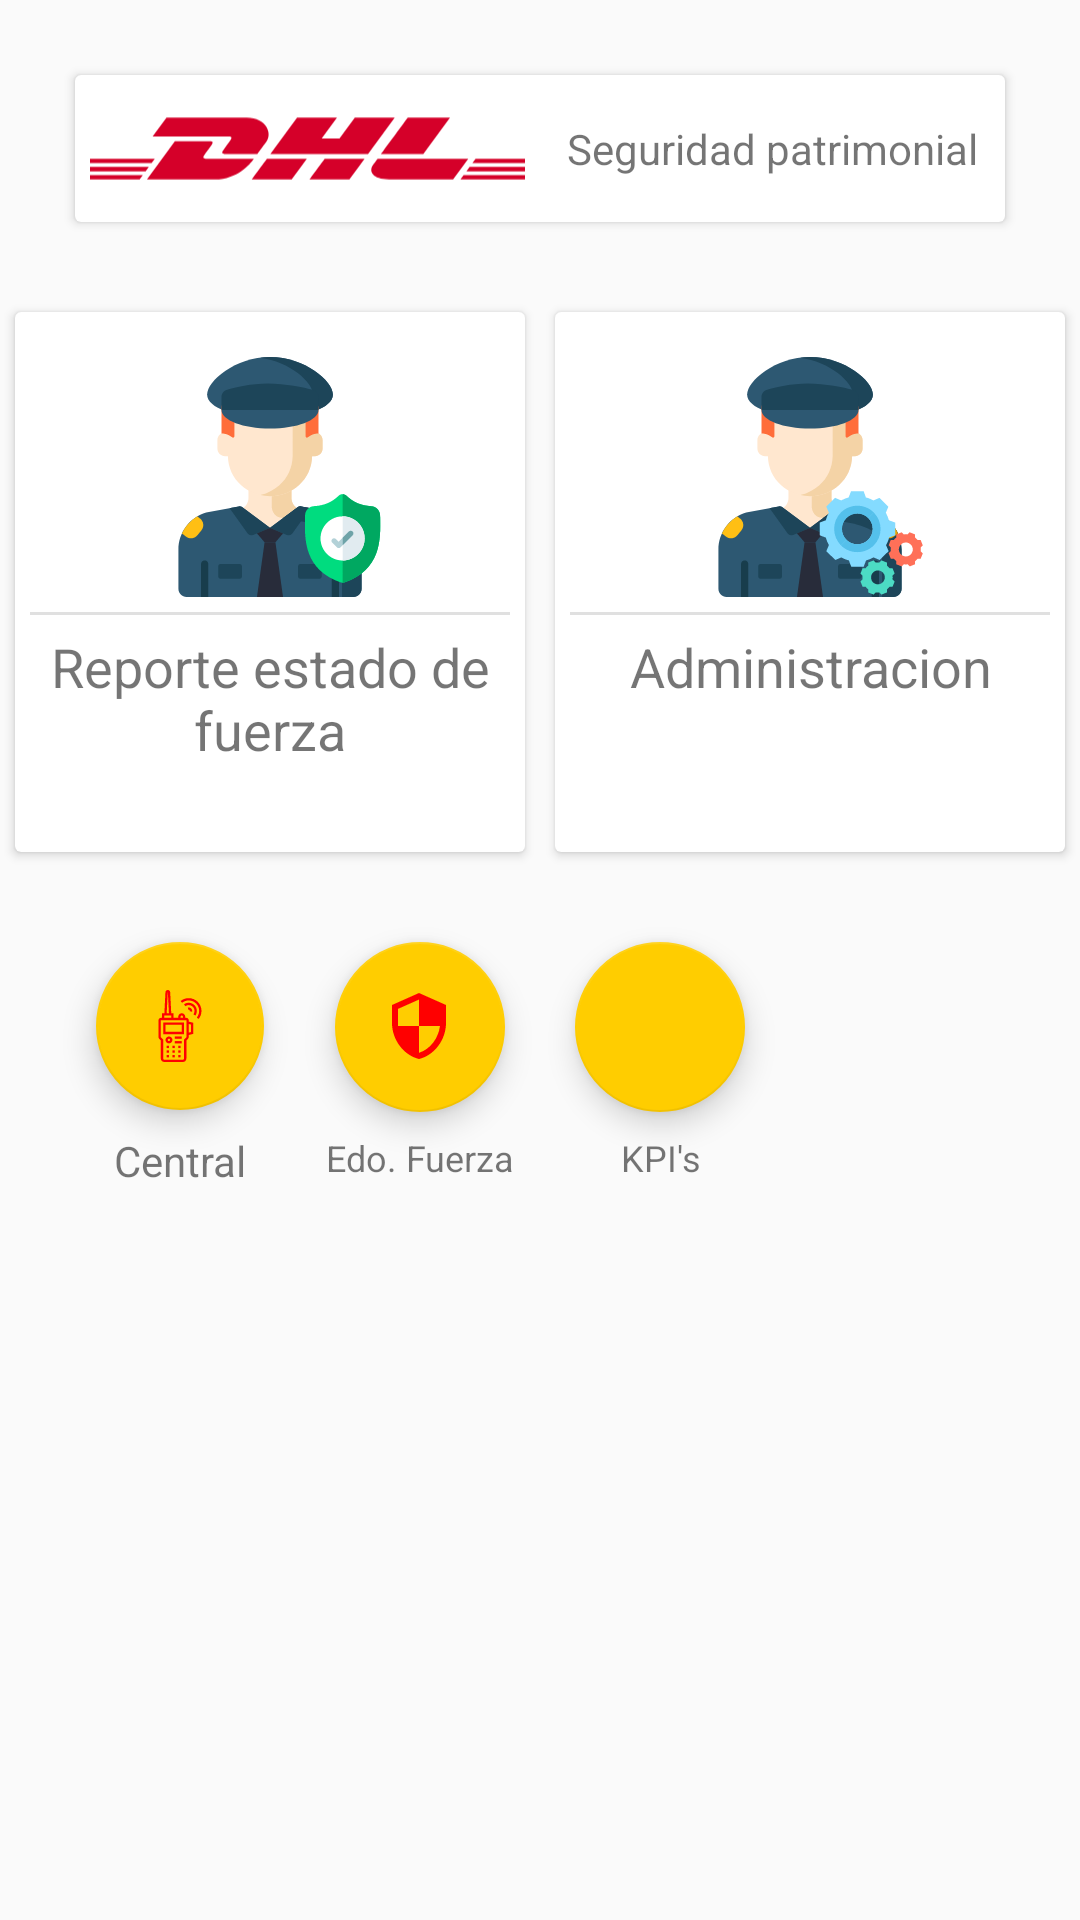

Point at icon controls on the screen. Image size 1080x1920, points as (x=x, y=y).
guard: (x=279, y=477), (x=820, y=477)
security: (x=420, y=1027)
walkie talkie: (x=180, y=1026)
